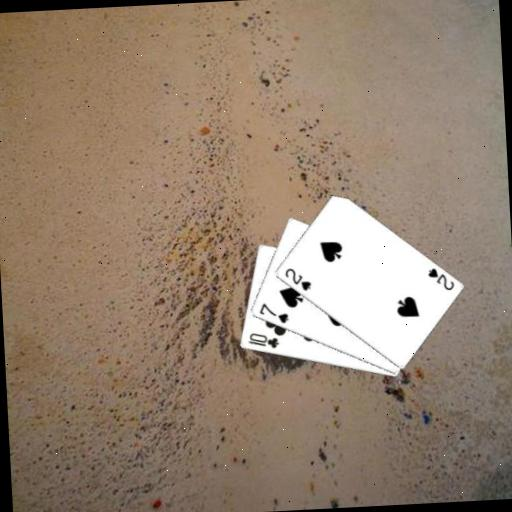10C: (245, 330, 281, 352)
2S: (424, 264, 456, 294), (281, 264, 313, 293)
7S: (256, 299, 291, 326)
